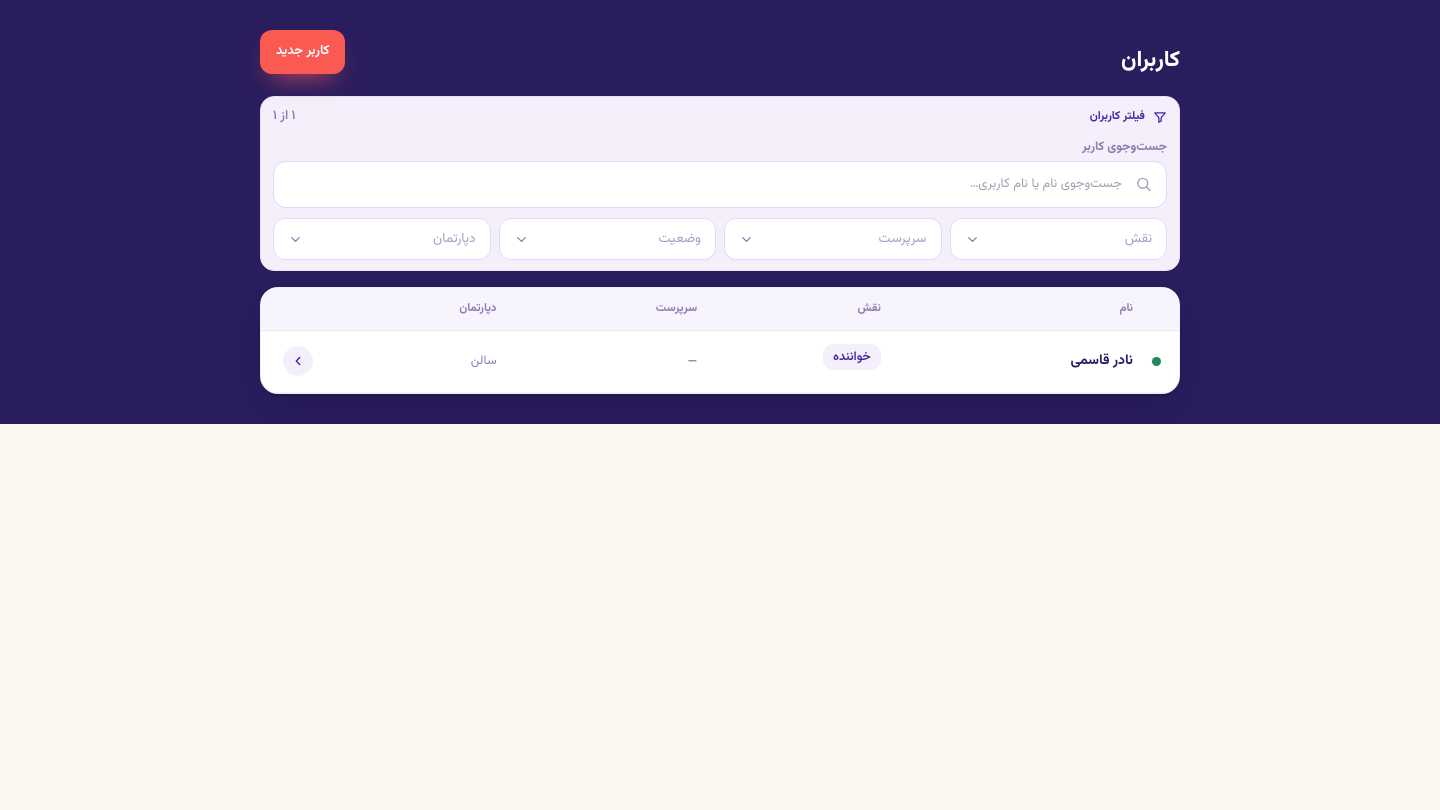
the role picker on the create form › offers exactly the roles the server returned, and re-filters nothing
Click the button "کاربر جدید": (303, 52) [260,30,345,74]
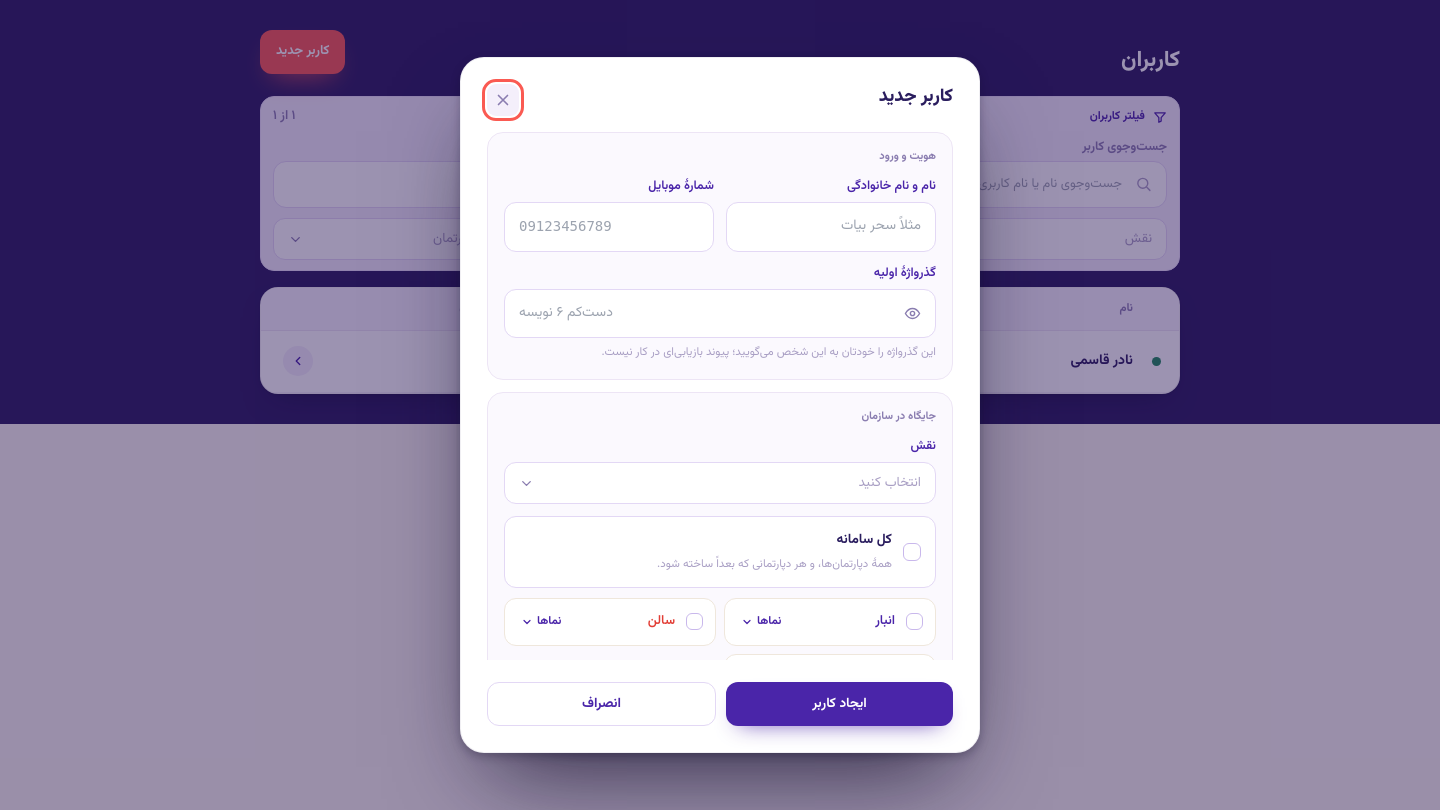
Expected: the dialog is shown, [460,57,980,753]
Expected: the checkbox labelled "سالن" is shown, [504,598,716,646]
Click the button named "نقش": (890, 483) [504,462,936,504]
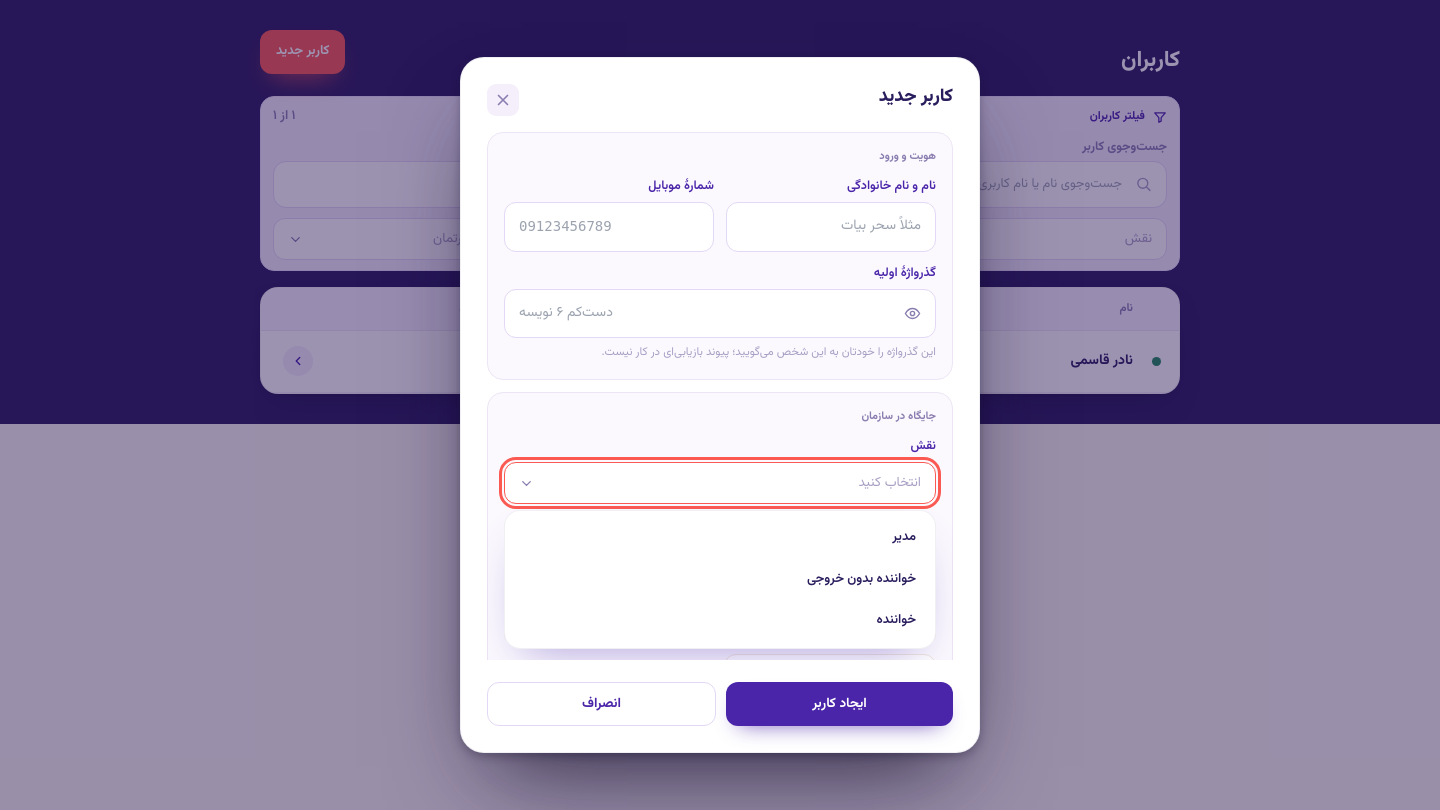
Expected: the number of options is 3, [512,518,928,558]; [512,560,928,600]; [512,602,928,641]
Expected: the options read "مدیر", "خواننده بدون خروجی", "خواننده", in this order, [512,518,928,558]; [512,560,928,600]; [512,602,928,641]
